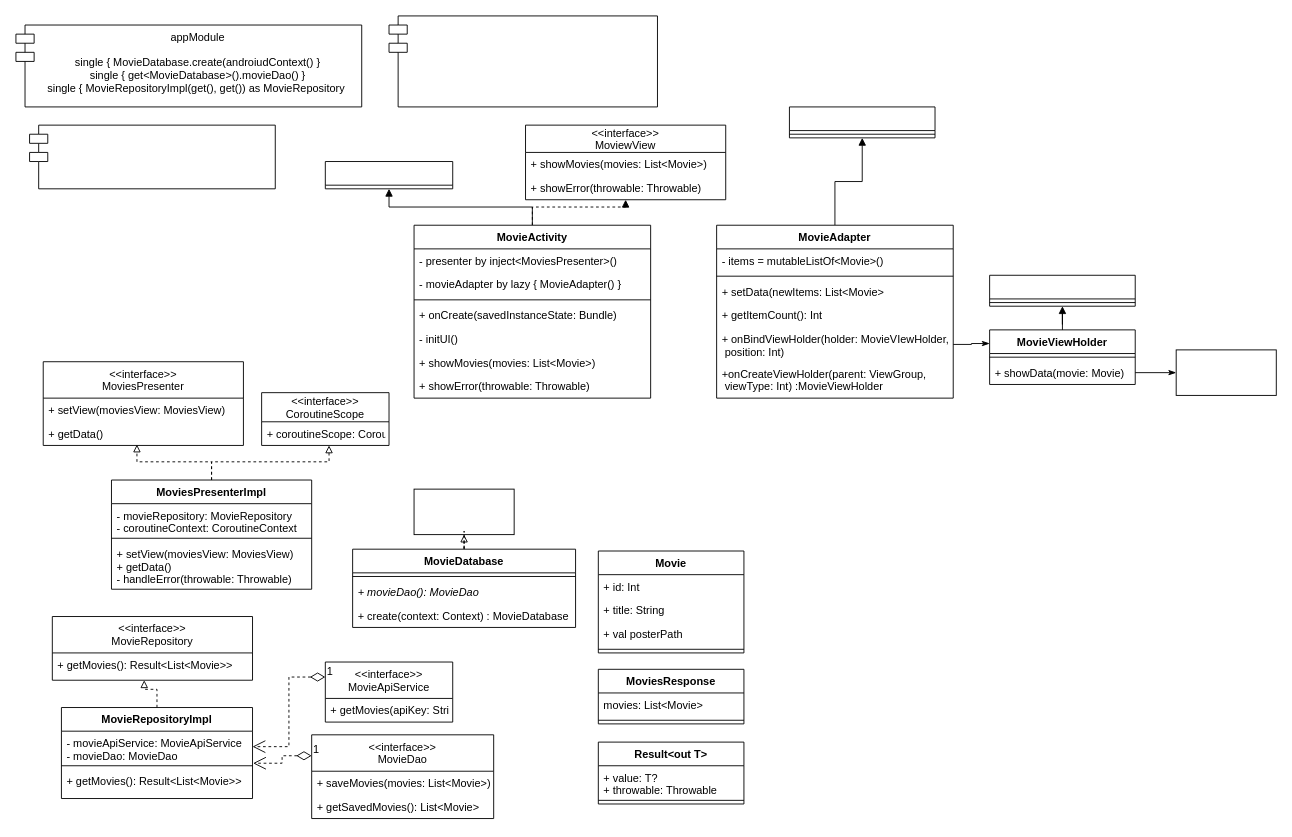
Some shapes in this 1292 by 837 pixel diagram are drawn without their labels. Here are the shapes that lost their labels. From the top down, the centre of each, then its label:
At (x=522, y=61): "networkingModule() OkHttpClient // client Gson convert Retrofit Api service".
At (x=862, y=122): "RecyclerVIew.Adapter()".
At (x=152, y=156): "presenterModule MoviesPresenterImp // MoviesPresenter".
At (x=388, y=175): "AppCompatActivity".
At (x=1062, y=290): "RecyclerView.ViewHolder".
At (x=1225, y=372): "GlideLib".
At (x=463, y=511): "RoomDatabase".
